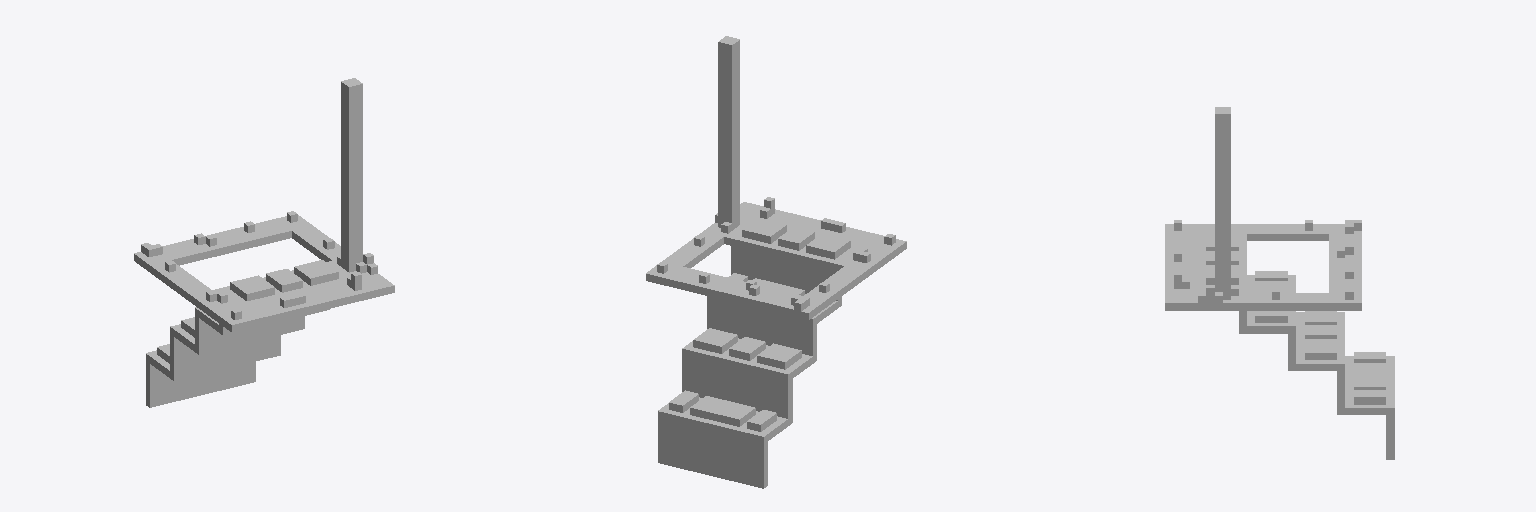
The model's file is CaveExit.obj.
3 views of the same model, side by side, from view 1: azimuth 30°, elevation 25°; view 2: azimuth 150°, elevation 25°; view 3: azimuth 270°, elevation 25° (orthographic).
Visible parts, largest first — view 1: Untitled; view 2: Untitled; view 3: Untitled.
Part boxes in pixels (x1,y1,x2,y2): Untitled: (134, 78, 394, 407); Untitled: (646, 36, 906, 488); Untitled: (1165, 107, 1394, 459).
Bounding box in the file's own units: 2.3 × 4.8 × 2.8.